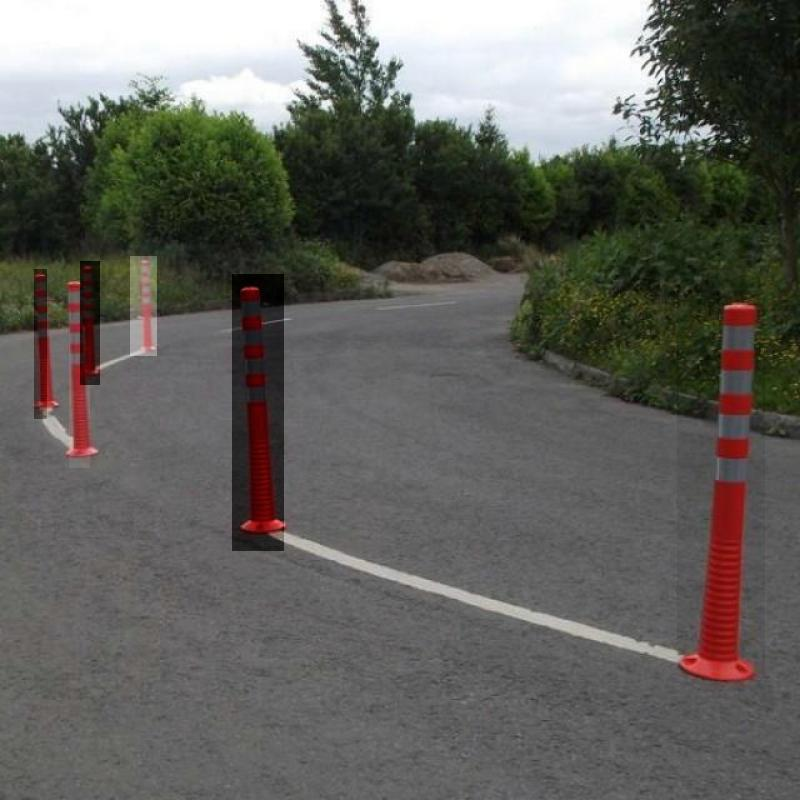pillar: (678, 290, 766, 677), (232, 274, 284, 551), (69, 288, 90, 468), (130, 256, 157, 356), (80, 261, 100, 385), (34, 269, 47, 419)
